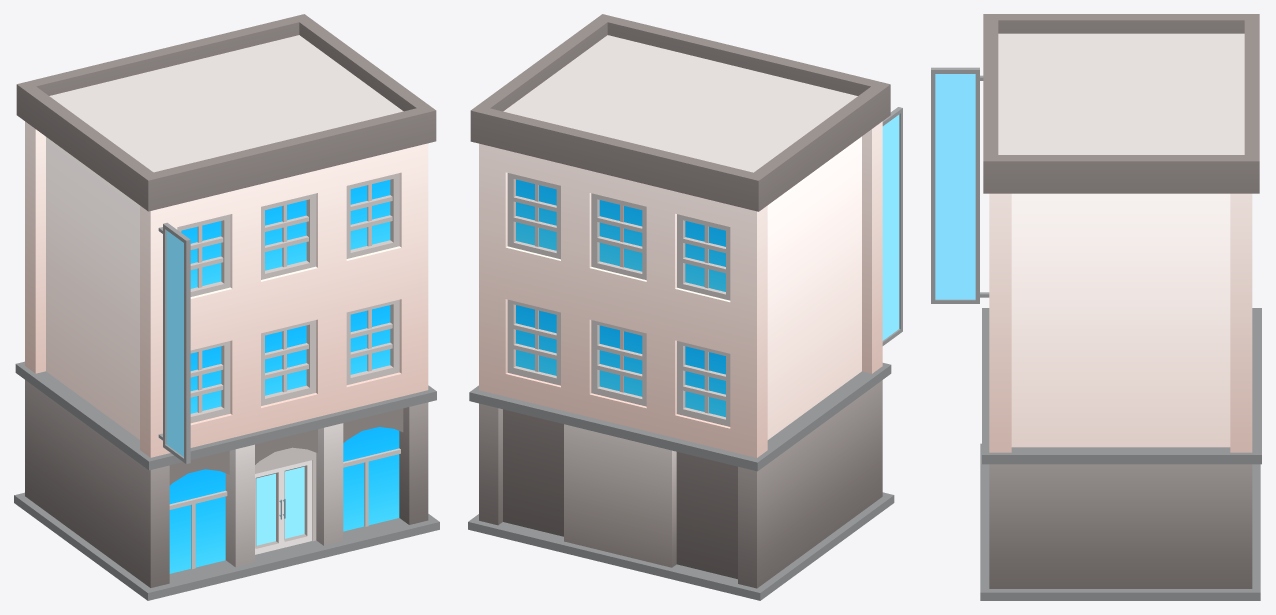
File: Building_Hotel_09.glb
3 renders of one model, left to right at view 1: azimuth 30°, elevation 25°; view 2: azimuth 150°, elevation 25°; view 3: azimuth 270°, elevation 25°, orthographic. The views are drawn at different scales.
Parts seen in each view (by area): view 1: Building_Hotel_09; view 2: Building_Hotel_09; view 3: Building_Hotel_09.
Boxes of the visible parts, bbox=[...] form: Building_Hotel_09: bbox=[14, 14, 439, 600]; Building_Hotel_09: bbox=[468, 14, 902, 600]; Building_Hotel_09: bbox=[931, 14, 1261, 600].
Bounding box in the file's own units: 8.22 × 11.26 × 7.7.
1 material, 1 textured.
